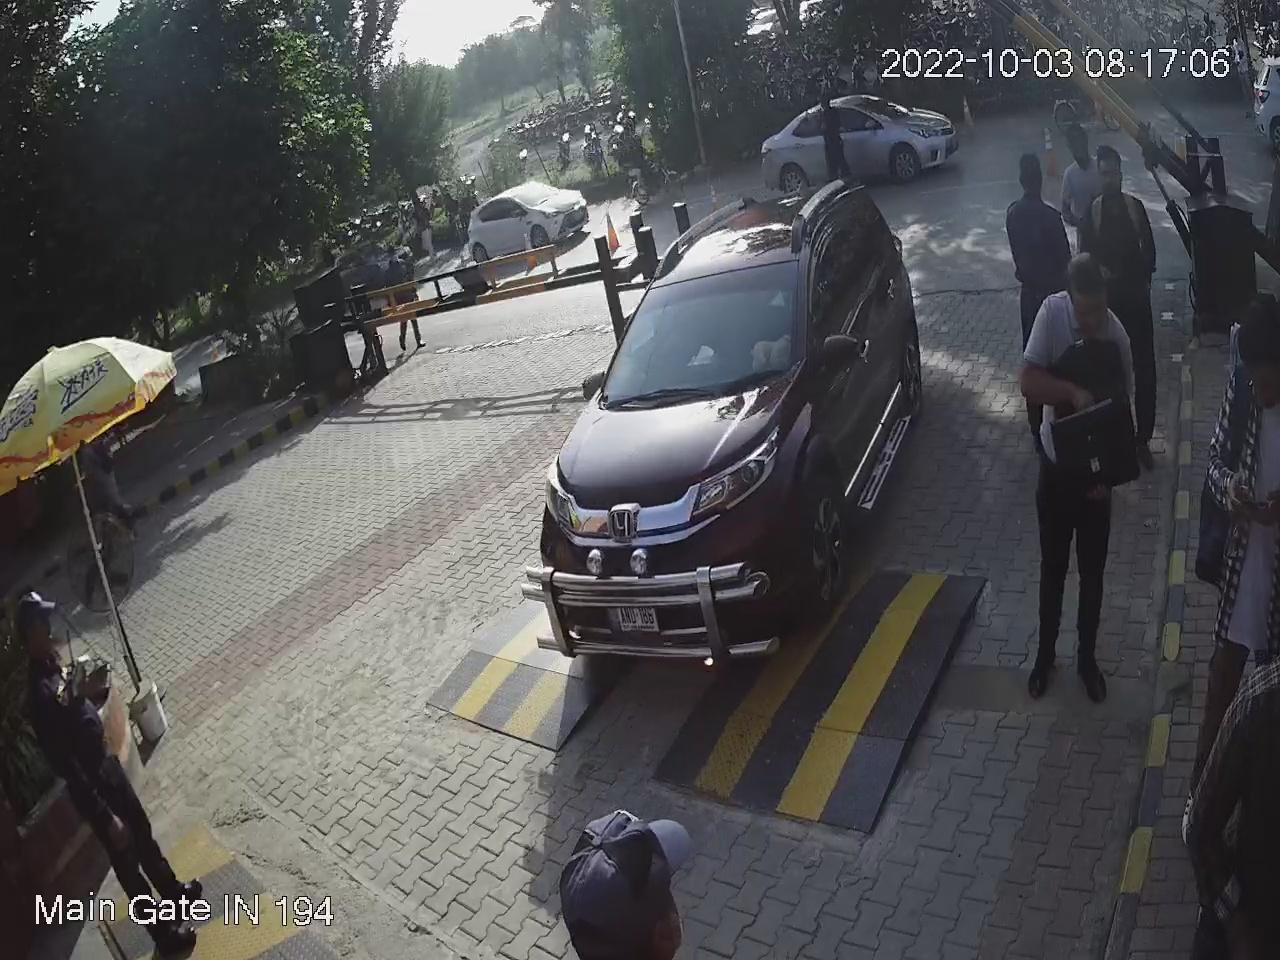windshield: (588, 252, 810, 402)
